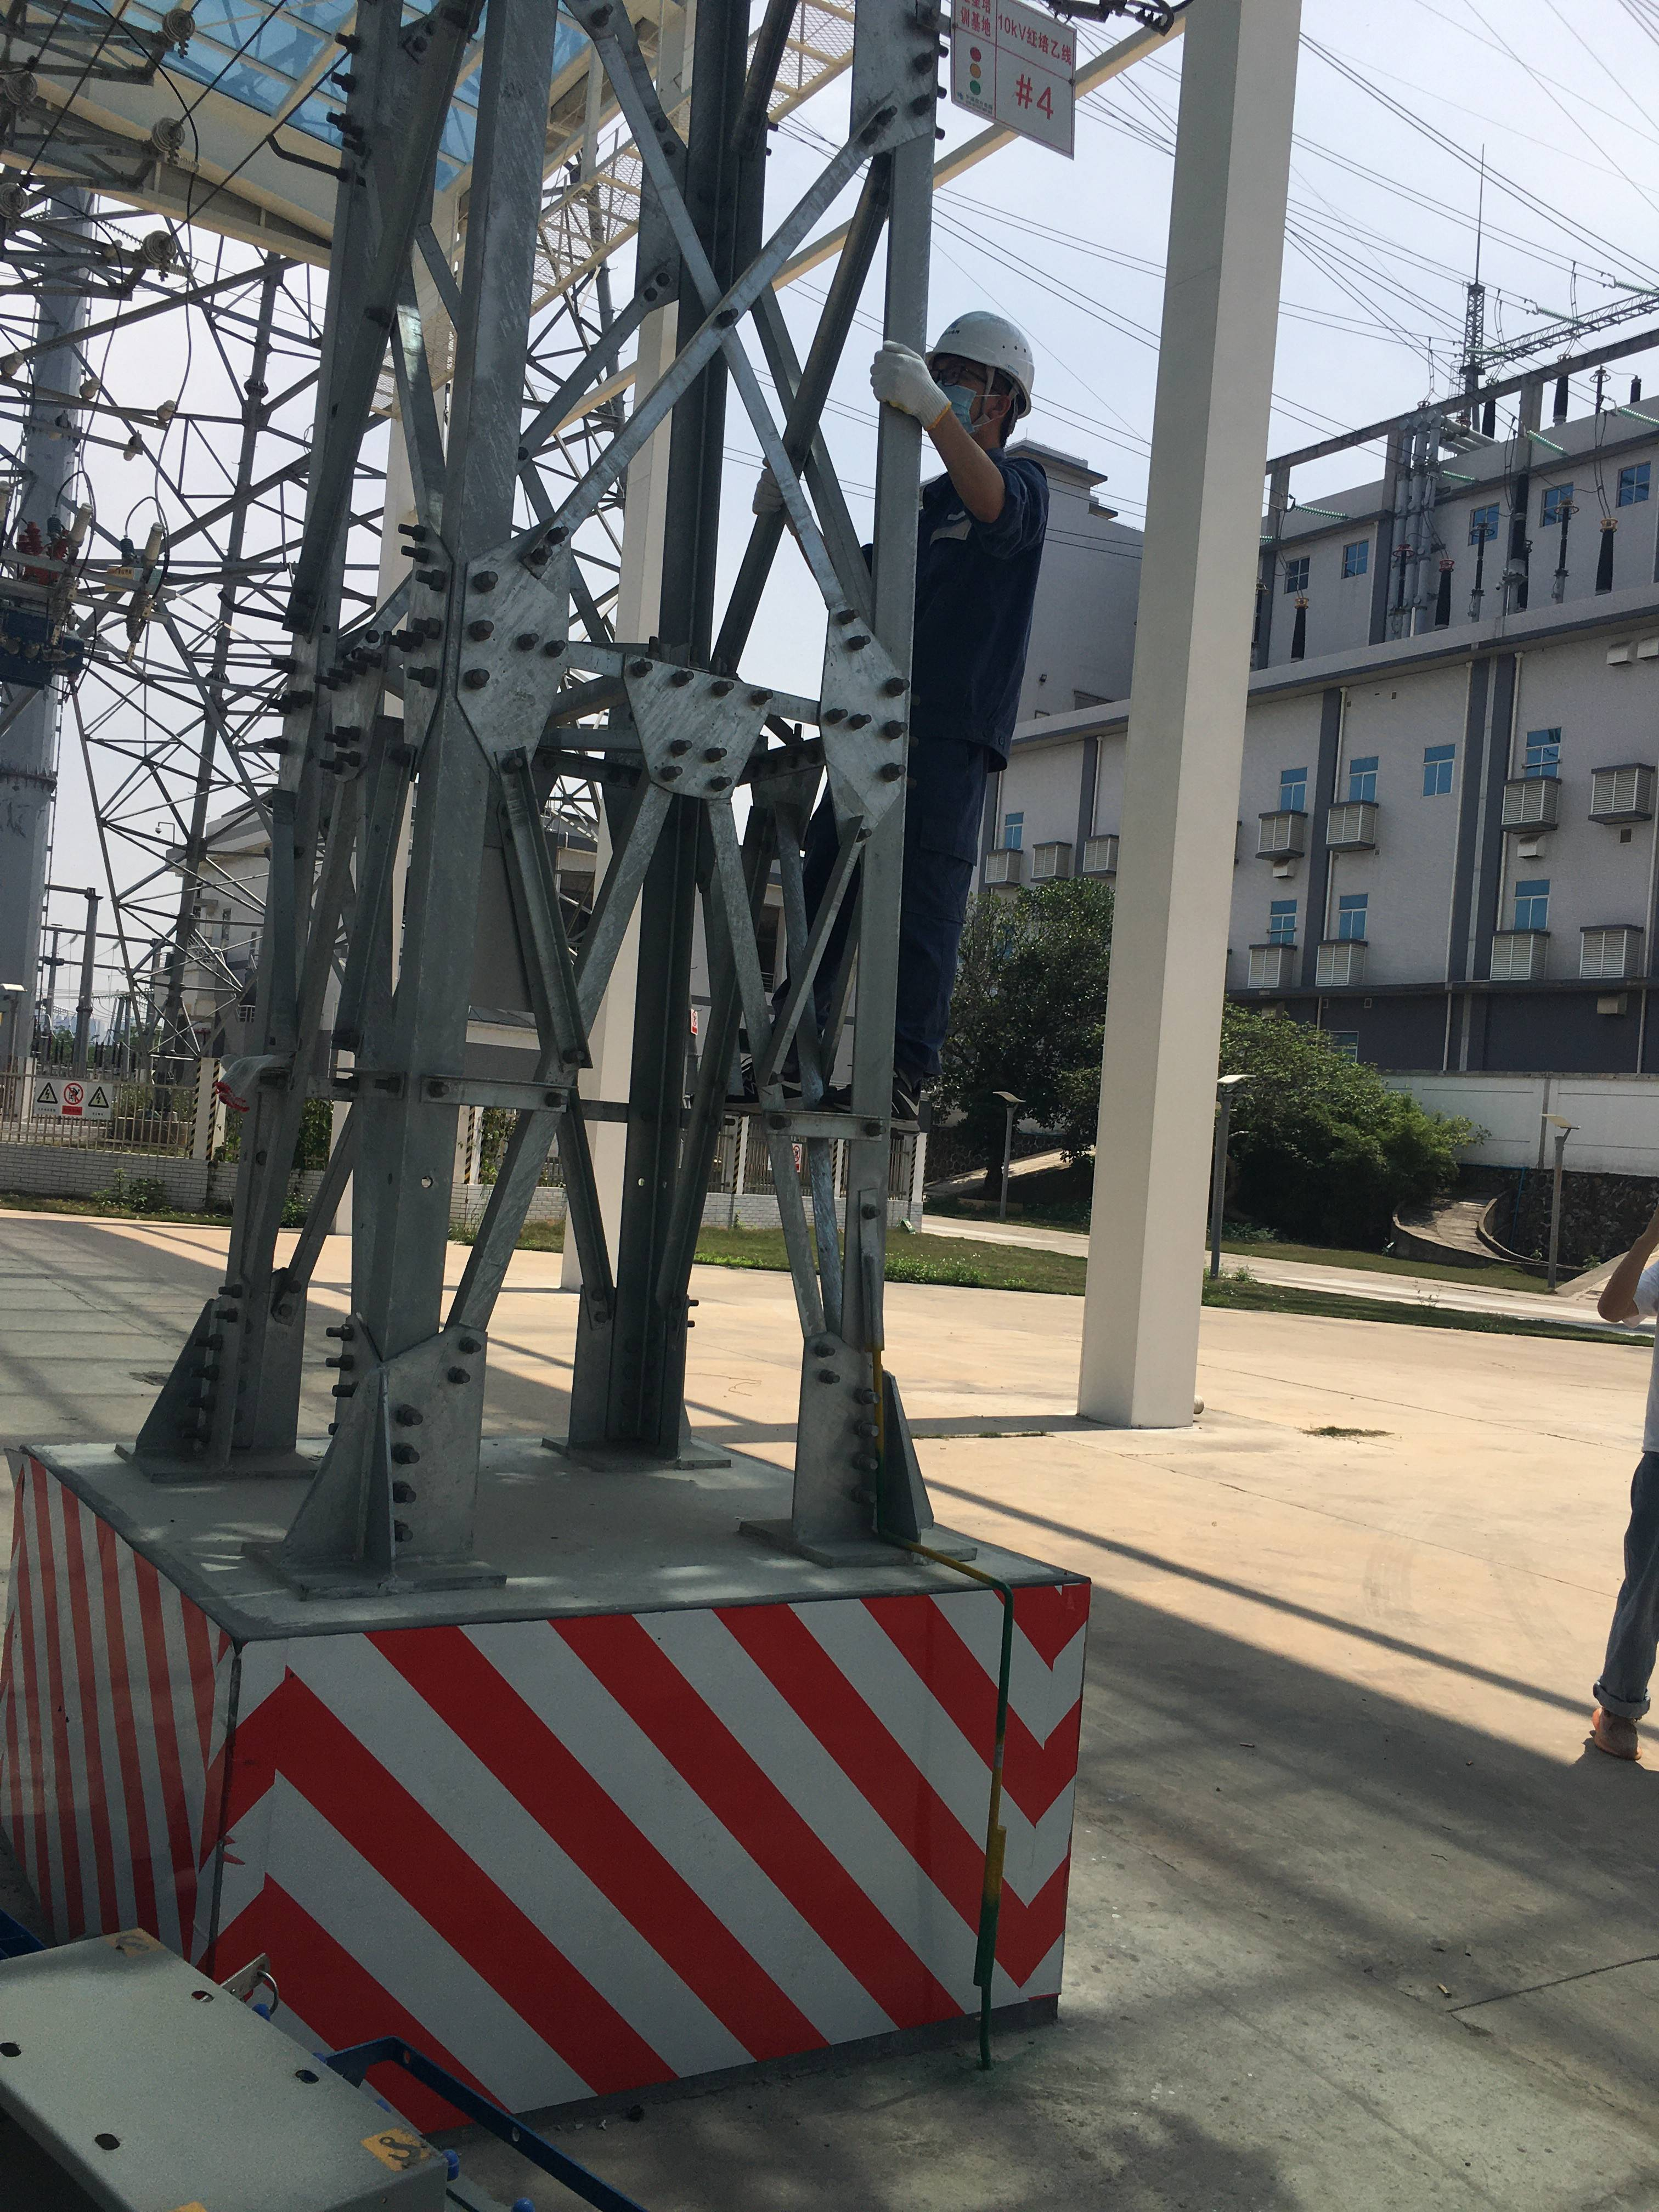upsuit: (918, 458, 1051, 763)
wrongtop: (920, 390, 1019, 533)
